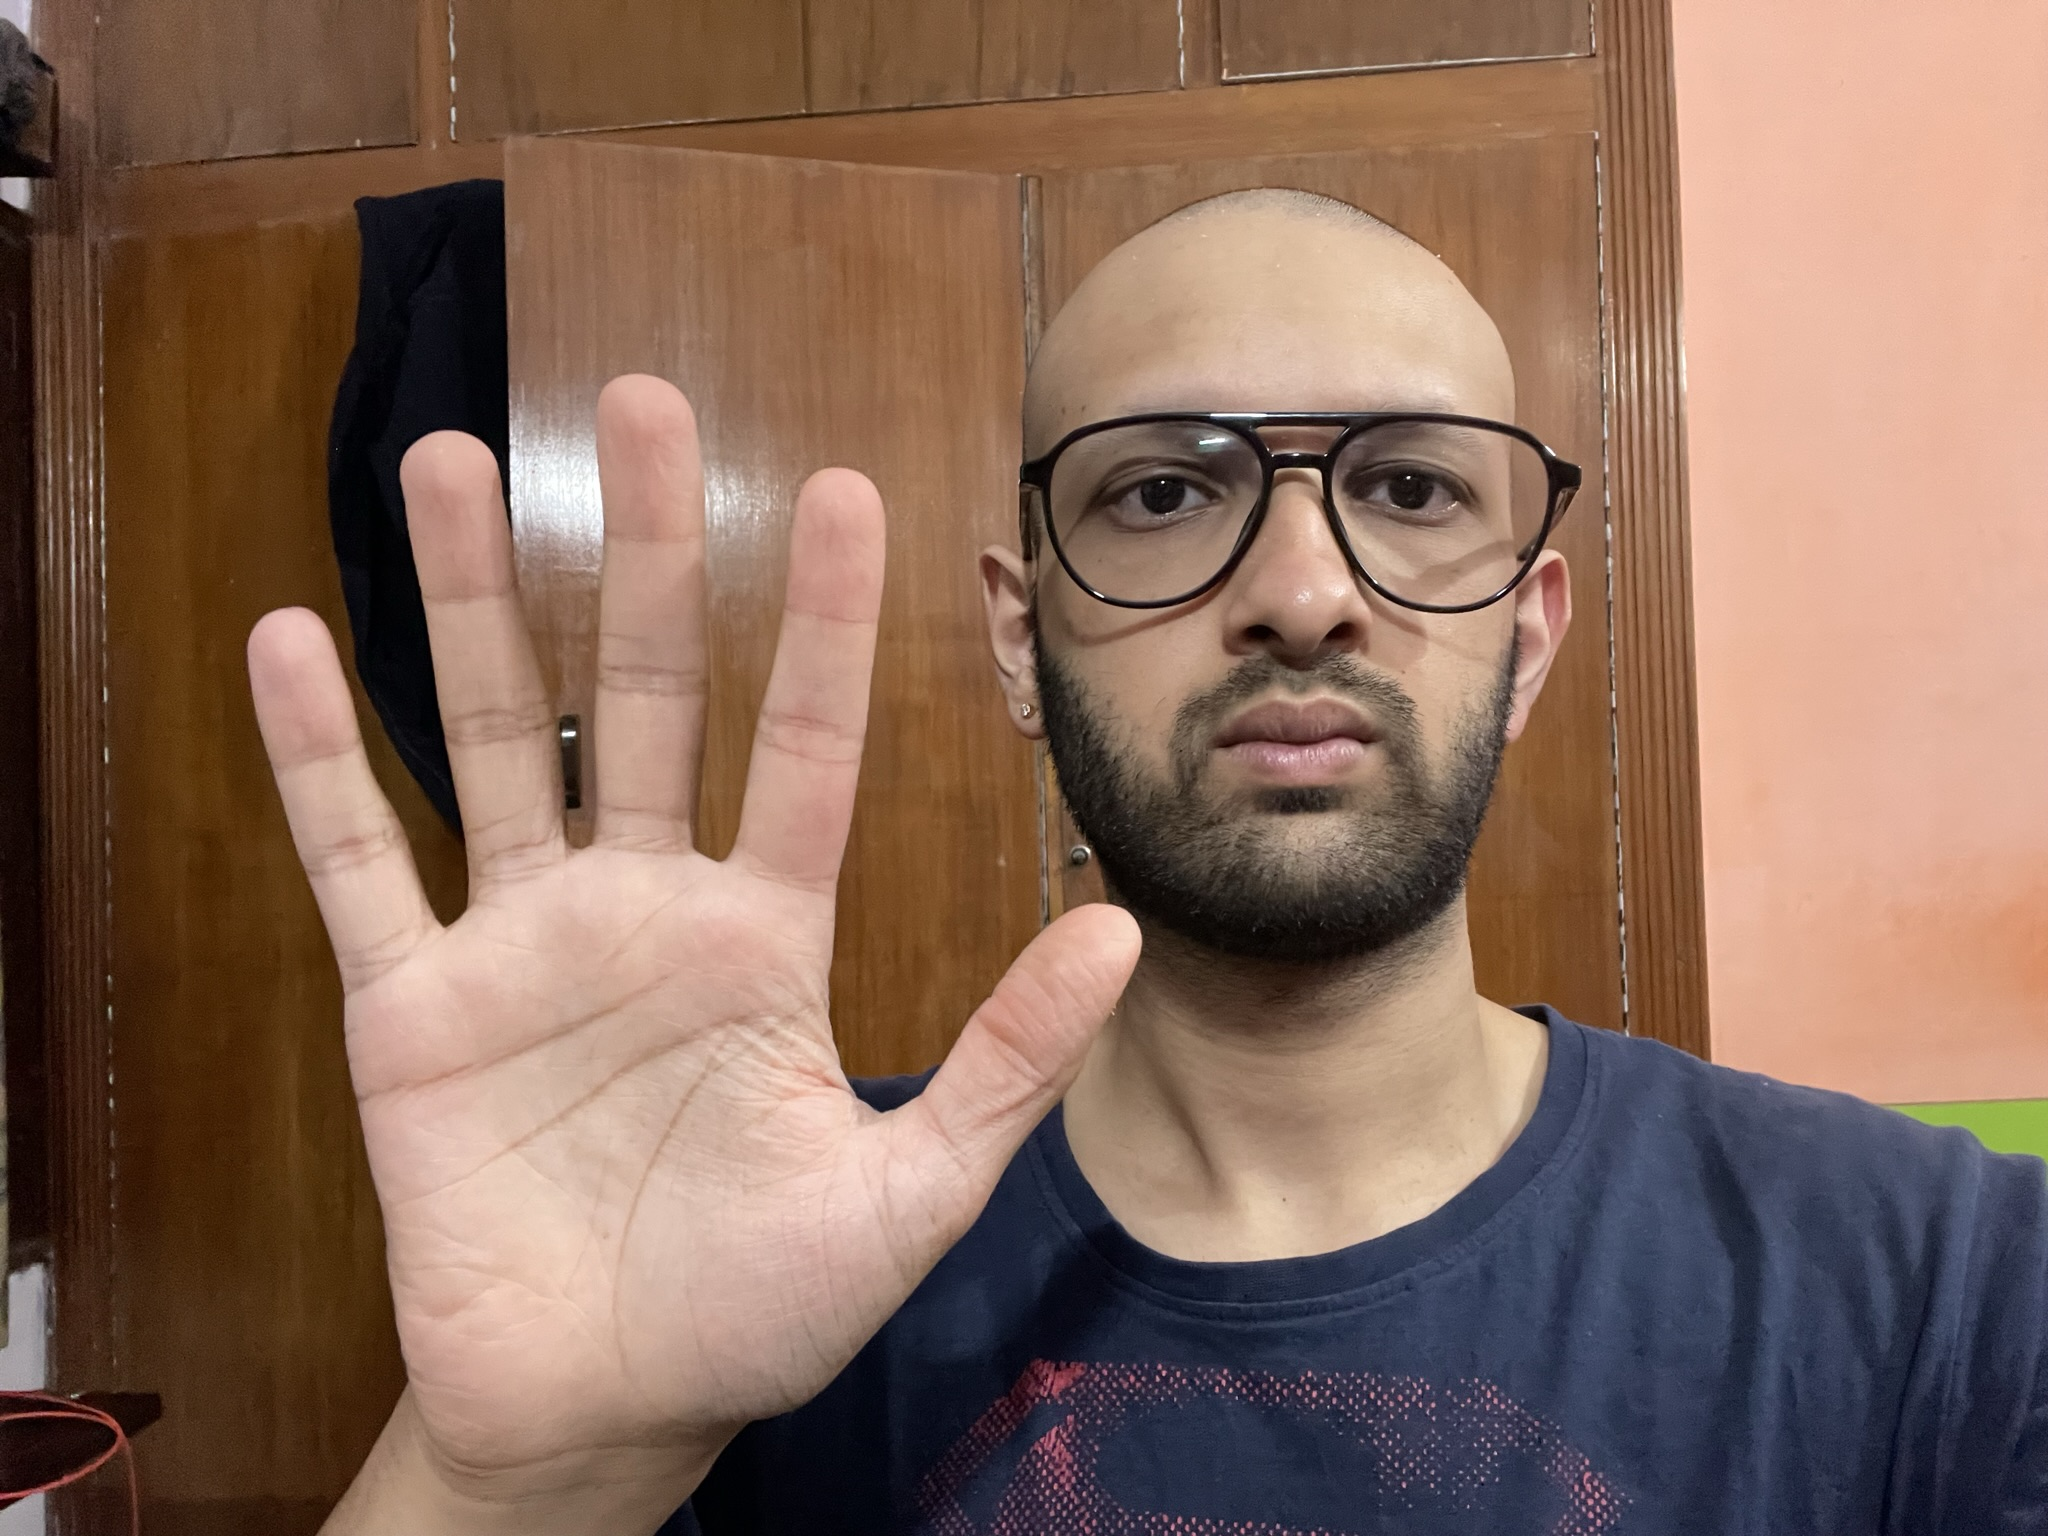Hello: (234, 358, 1150, 1455)
